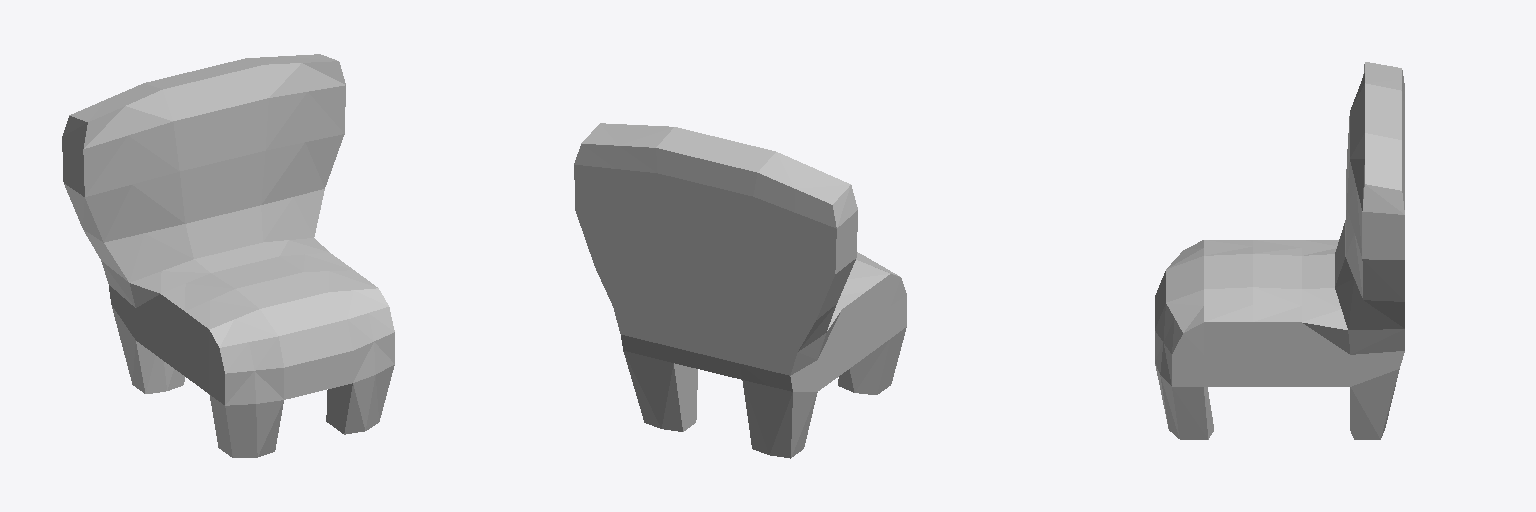
File: ComfyChair.obj
3 views of the same model, side by side, from view 1: azimuth 30°, elevation 25°; view 2: azimuth 150°, elevation 25°; view 3: azimuth 270°, elevation 25° (orthographic).
Visible parts, largest first — view 1: pCube3; view 2: pCube3; view 3: pCube3.
Part boxes in pixels (left/top/right/bottom): pCube3: left=62, top=54, right=394, bottom=457; pCube3: left=574, top=123, right=906, bottom=458; pCube3: left=1155, top=62, right=1404, bottom=439.
Size of the model in its own units: 15.5 by 16.66 by 12.79.